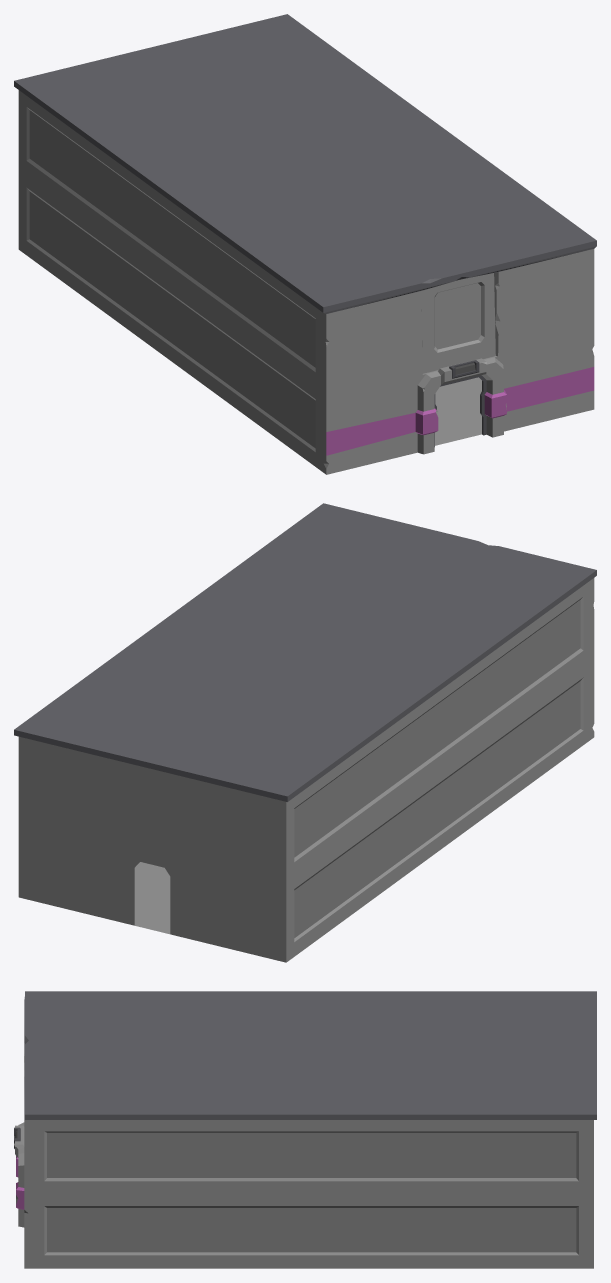
Rendered from SM_Bld_StripClub_01.fbx.
3 renders of one model, top to bottom at view 1: azimuth 30°, elevation 25°; view 2: azimuth 150°, elevation 25°; view 3: azimuth 270°, elevation 25°, orthographic. The views are drawn at different scales.
Parts seen in each view (by area): view 1: SM_Bld_StripClub_01; view 2: SM_Bld_StripClub_01; view 3: SM_Bld_StripClub_01.
Part boxes in pixels (bbox=[...]): SM_Bld_StripClub_01: bbox=[14, 14, 596, 474]; SM_Bld_StripClub_01: bbox=[14, 503, 596, 962]; SM_Bld_StripClub_01: bbox=[14, 991, 596, 1268].
Bounding box in the file's own units: 1021 × 600 × 2039.
